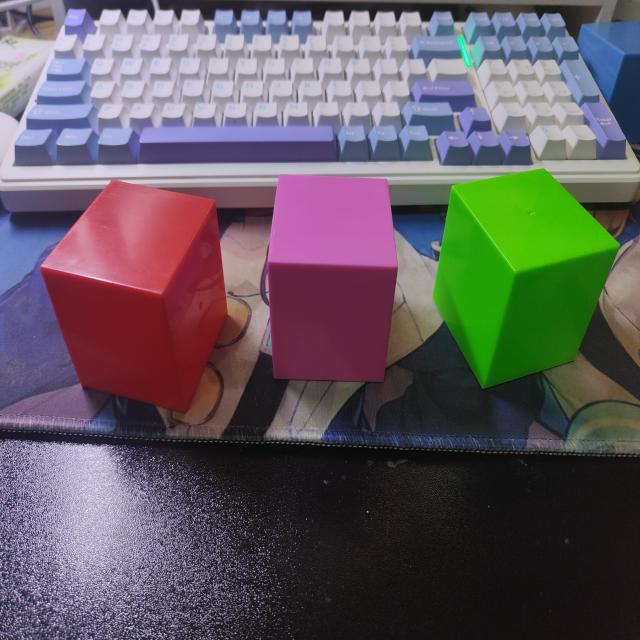green: (433, 169, 619, 392)
pink: (264, 175, 398, 385)
red: (39, 182, 229, 419)
